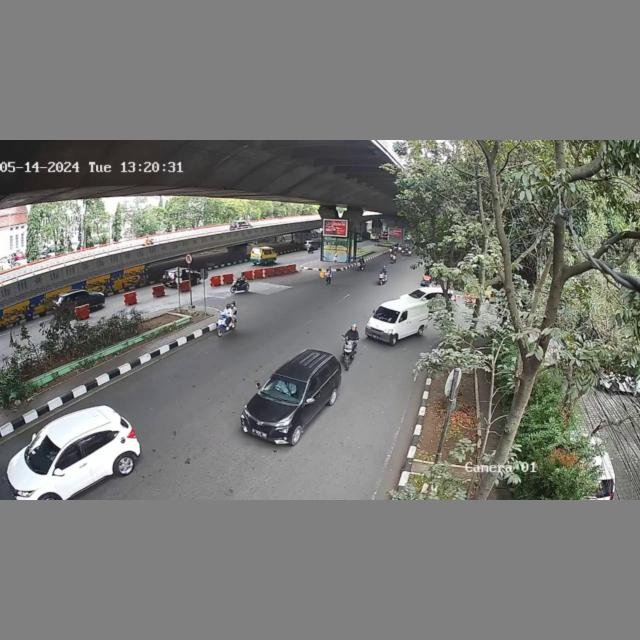windshield: (263, 374, 306, 401), (371, 307, 400, 321)
